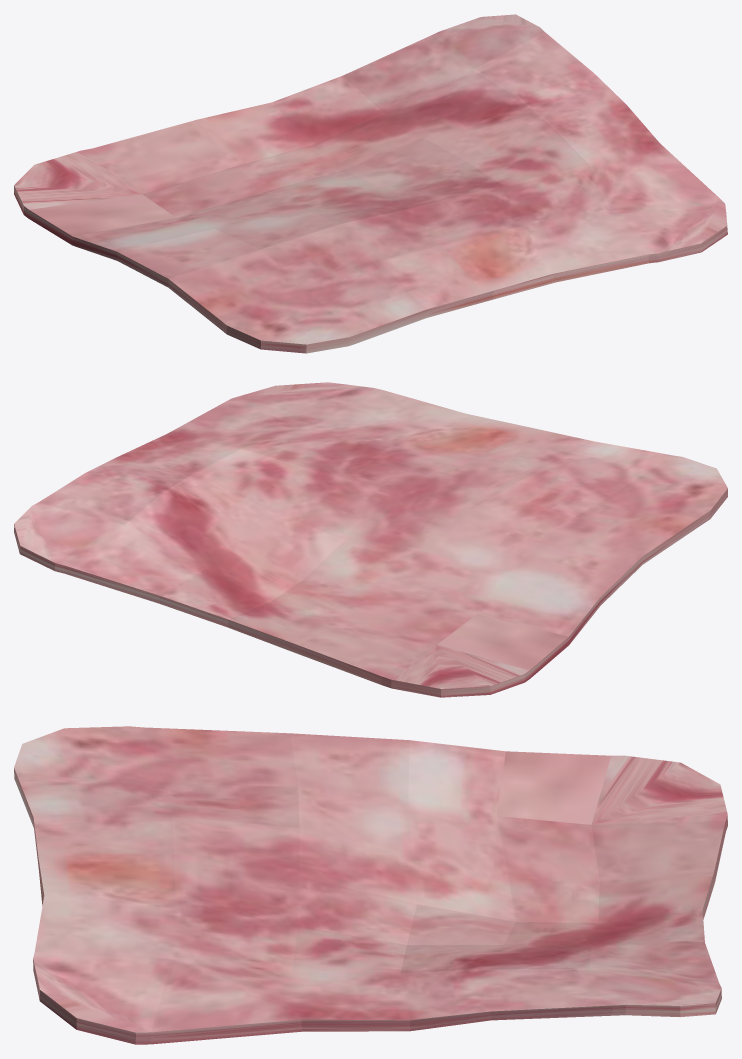
The model's file is Meat_Ham.fbx.
3 views of the same model, one above another, from view 1: azimuth 30°, elevation 25°; view 2: azimuth 150°, elevation 25°; view 3: azimuth 270°, elevation 25° (orthographic). The views are drawn at different scales.
Parts seen in each view (by area): view 1: Cube; view 2: Cube; view 3: Cube.
Part boxes in pixels (<box>): Cube: <box>14,14,727,353</box>; Cube: <box>14,382,727,697</box>; Cube: <box>14,726,727,1044</box>.
Size of the model in its own units: 166 by 19.98 by 160.
Materials: 1 (1 with a texture image).
